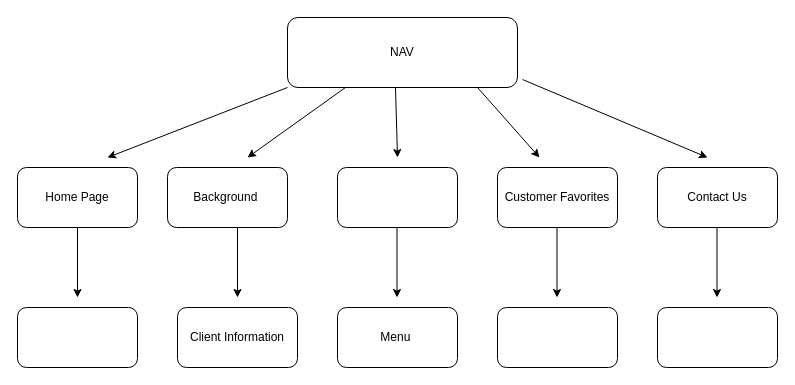
This 795x385 diagram has some shape labels left out. The box of each missing label's shape, as (x1, y1, x2, y2) in pixels:
Contact Form: (656, 306, 778, 368)
Images of common Cheesecakes: (496, 306, 618, 368)
Menu Choices: (336, 166, 458, 228)
Picture / Information: (16, 306, 138, 368)
